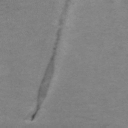finishing roll printing: (30, 0, 69, 122)
